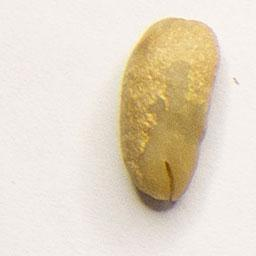longberry: (116, 14, 225, 206)
